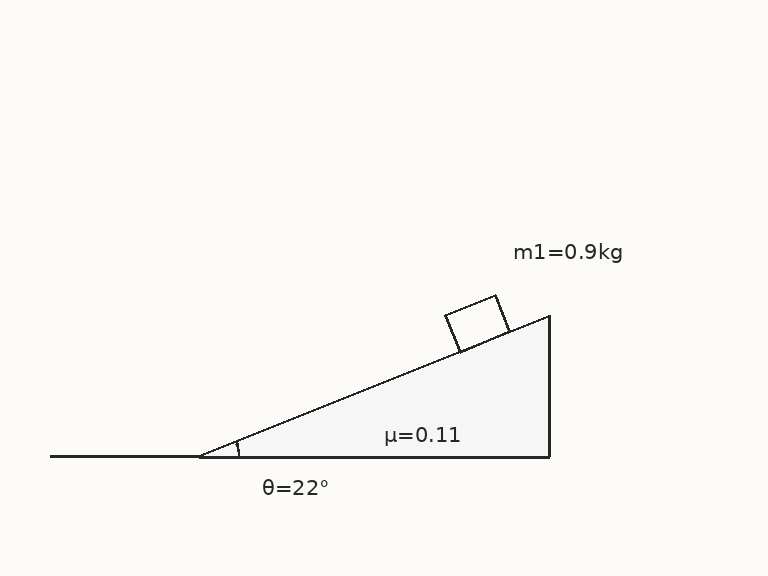block: (443, 293, 511, 354)
ramp: (197, 314, 551, 459)
